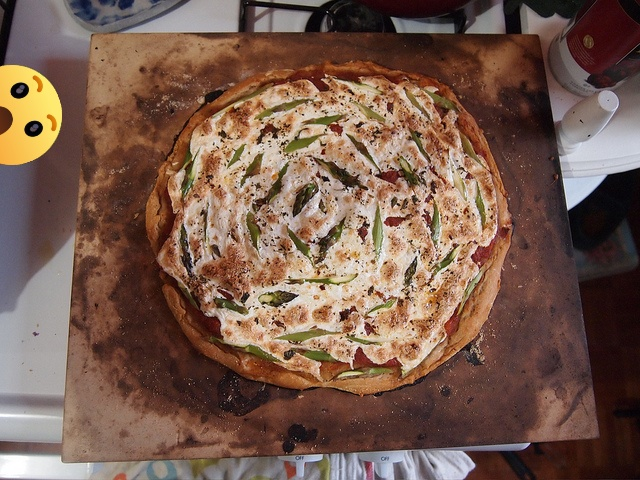wow: (0, 65, 62, 165)
